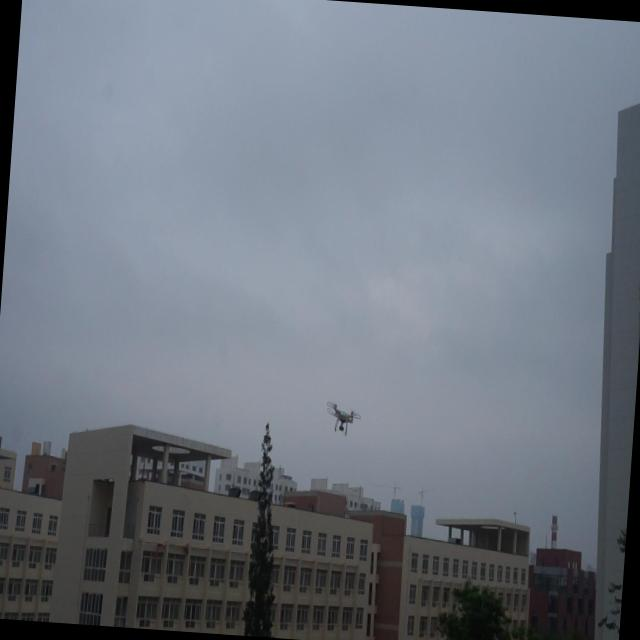drone: (323, 398, 362, 441)
